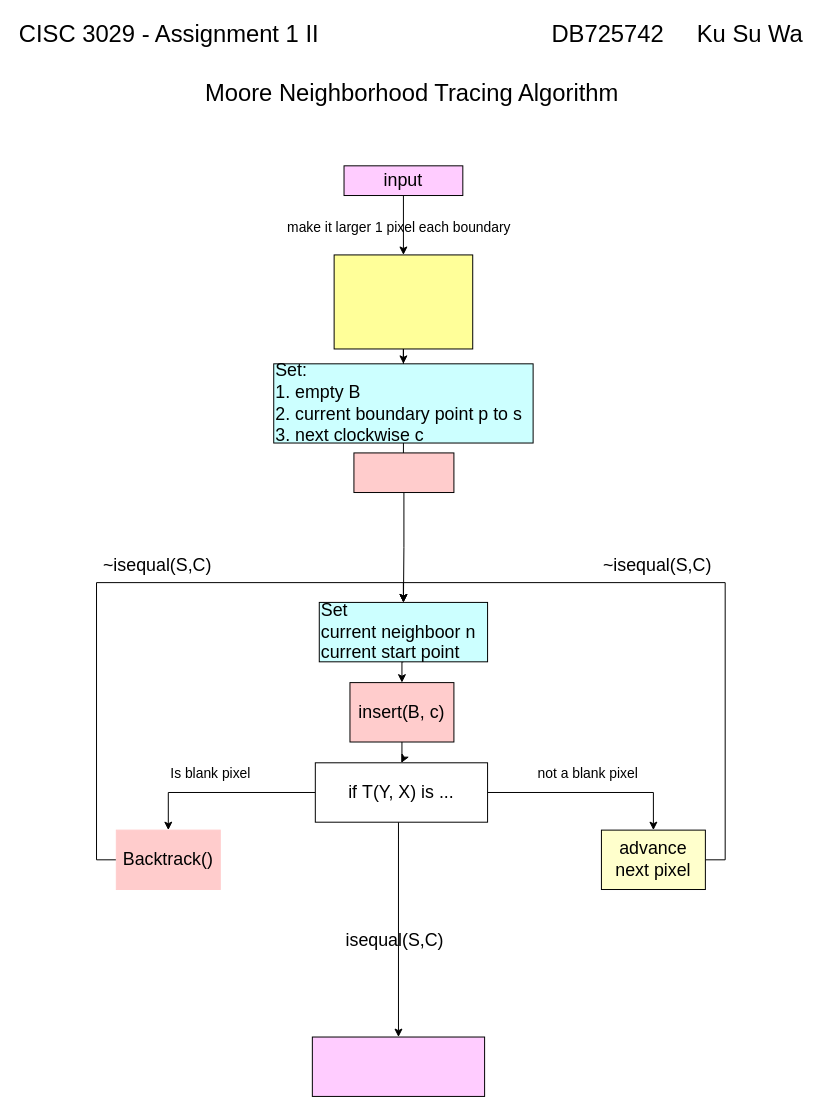
Image size: 834x1114. Some labels were removed from this diagram. Here are the shapes that lost their labels. From the top down, the box of each, then its label:
(333, 254, 473, 349): bottom→top left → right scan T
(353, 452, 454, 493): Insert(B, s)
(311, 1036, 485, 1096): Output
